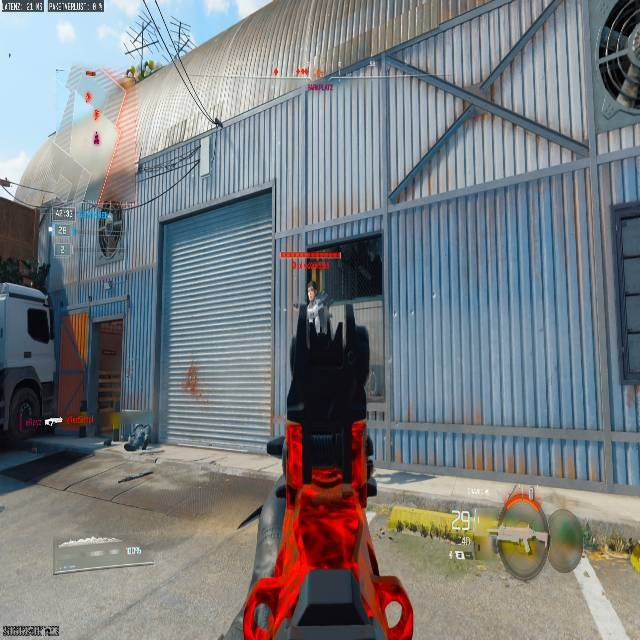head: (307, 280, 318, 298)
player: (305, 280, 331, 335), (97, 218, 120, 257)
